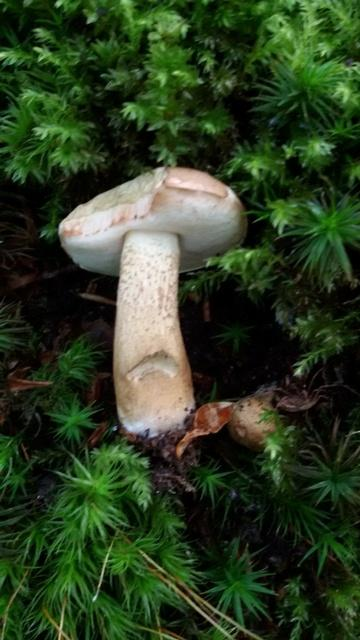Non-edible Mushroom: (56, 164, 248, 440)
